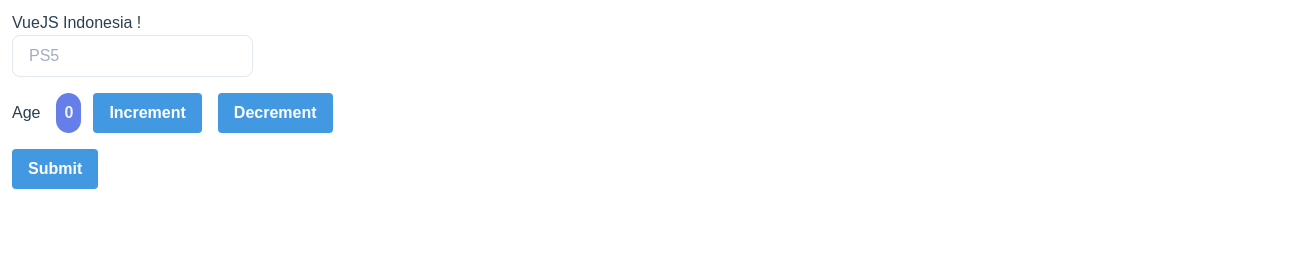
Test: Form.vue › should show error section if submit button is clicked while condition is not met (name empty)
Click the button "Increment" at (148, 113), box x1=93 y1=93 x2=202 y2=133
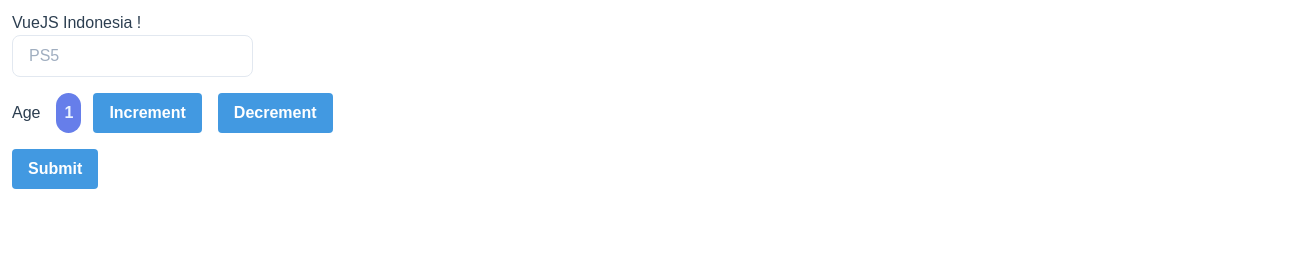
Click the button "Increment" at (148, 113), box x1=93 y1=93 x2=202 y2=133
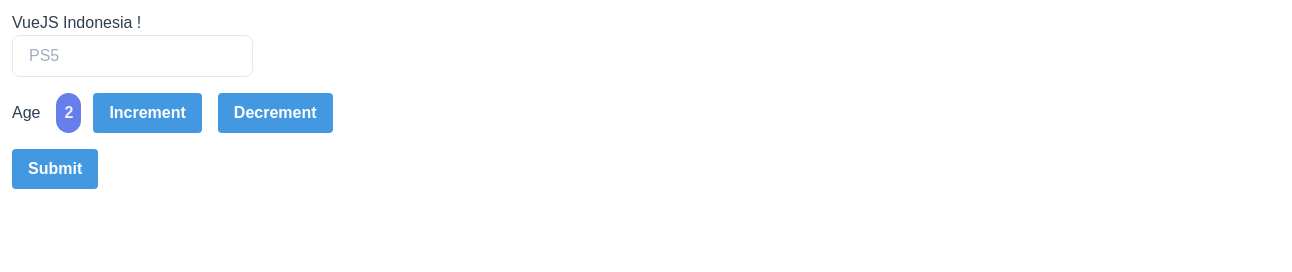
Click the button "Increment" at (148, 113), box x1=93 y1=93 x2=202 y2=133
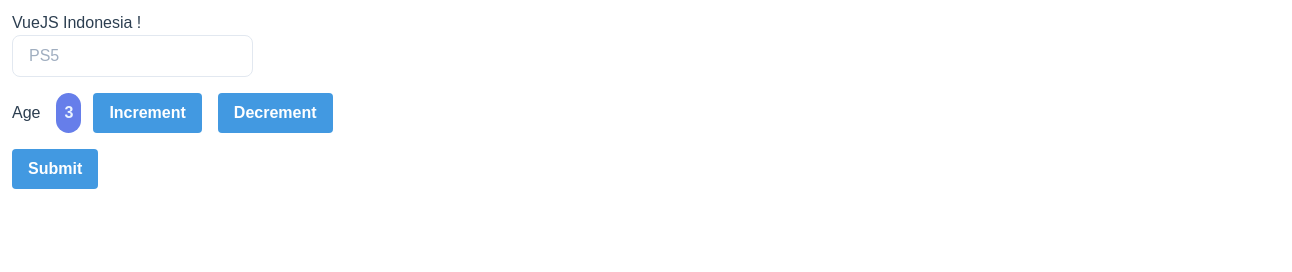
Click the button "Increment" at (148, 113), box x1=93 y1=93 x2=202 y2=133
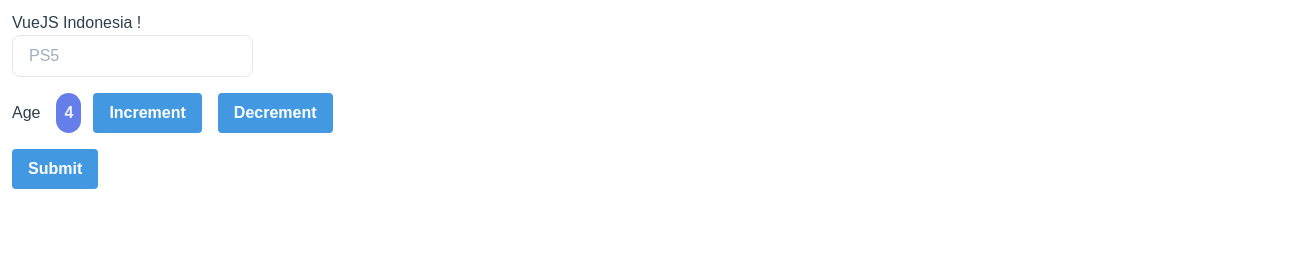
Click the button "Increment" at (148, 113), box x1=93 y1=93 x2=202 y2=133
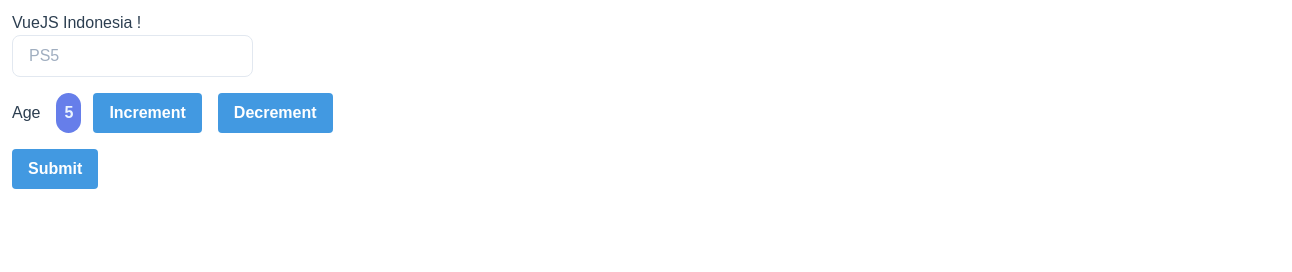
Click the button "Submit" at (55, 169), box x1=12 y1=149 x2=98 y2=189
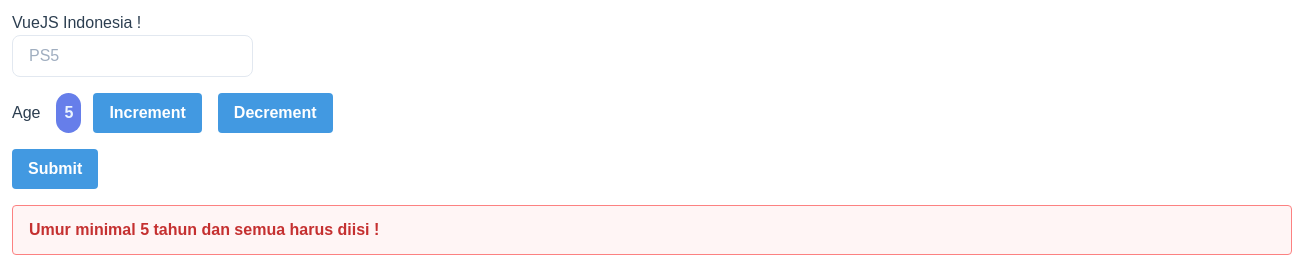
Check: the message "Umur minimal 5 tahun dan semua harus diisi !" is shown, box x1=12 y1=205 x2=1291 y2=255
